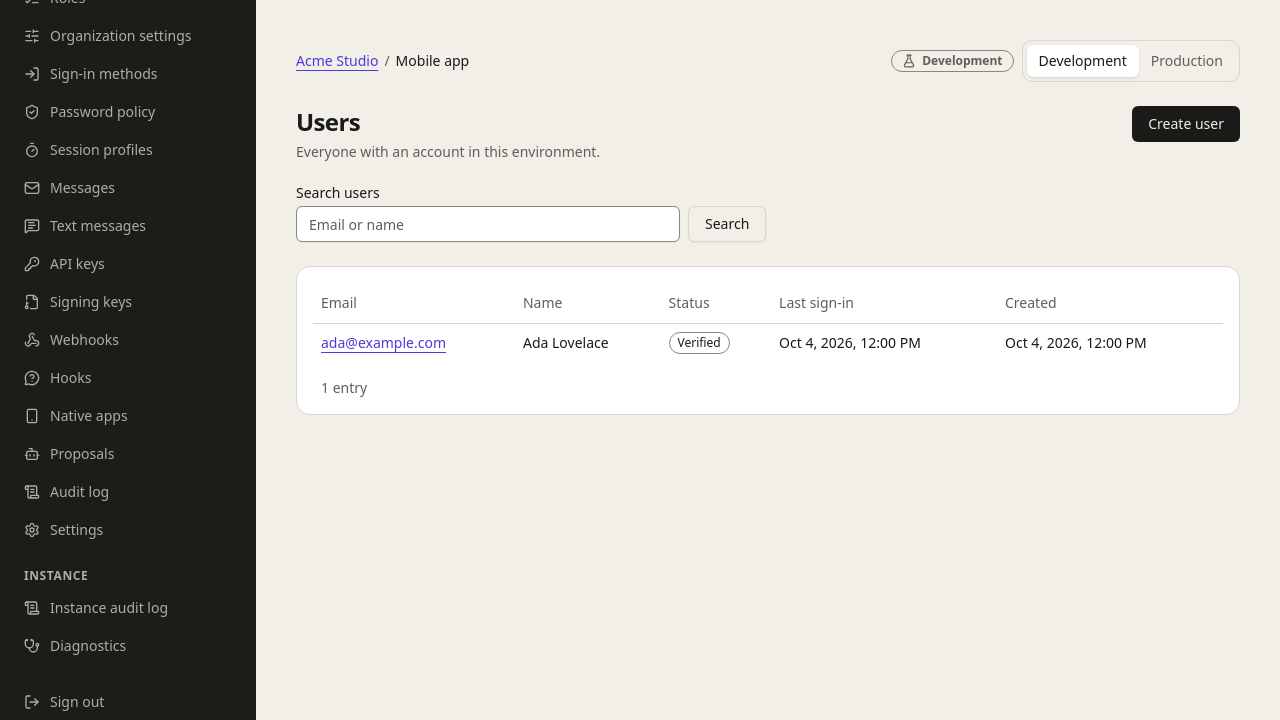
Test: the list › the navigation leads to it; with no app it says so, and shows where the two files are served
(page scrolled)
Expected: the heading "Users" is shown, [296, 105, 360, 138]
Click the link "Native apps": (76, 416) [24, 406, 128, 425]
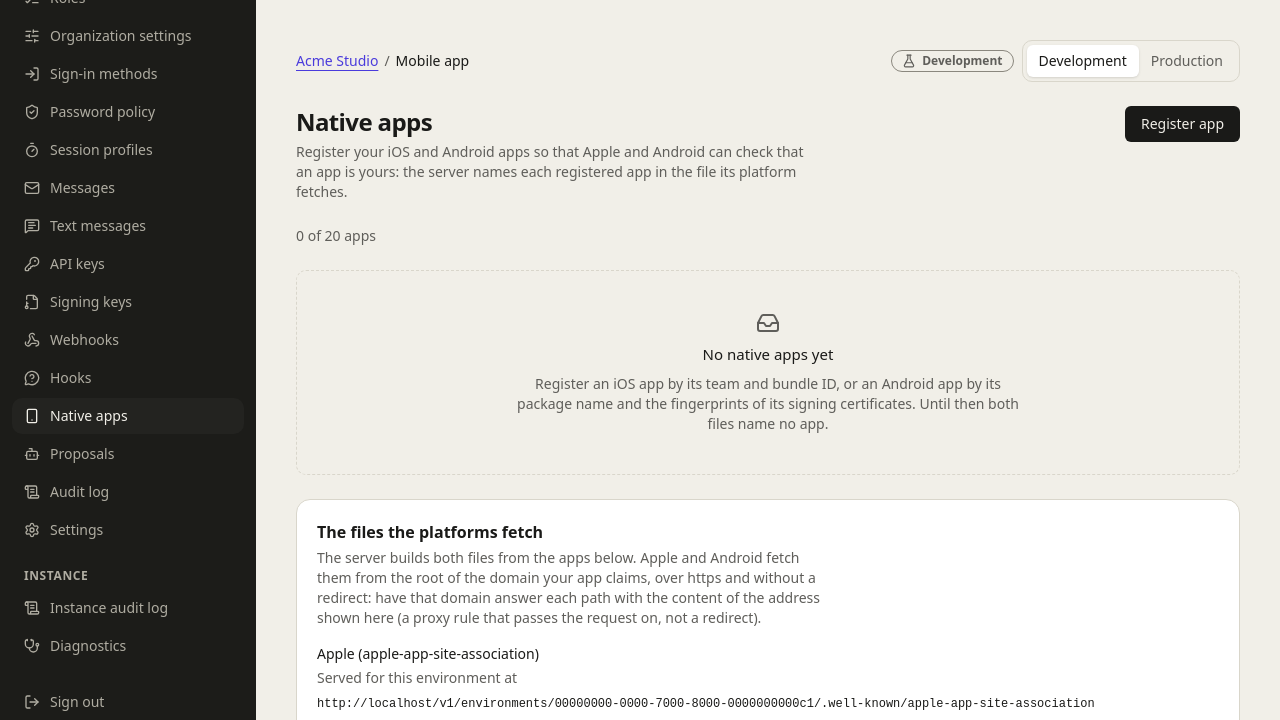
Now the heading "Native apps" is shown, box [296, 105, 432, 138]
Now the text "No native apps yet" is shown, box [703, 343, 833, 366]
Now the text "0 of 20 apps" is shown, box [296, 226, 376, 245]
